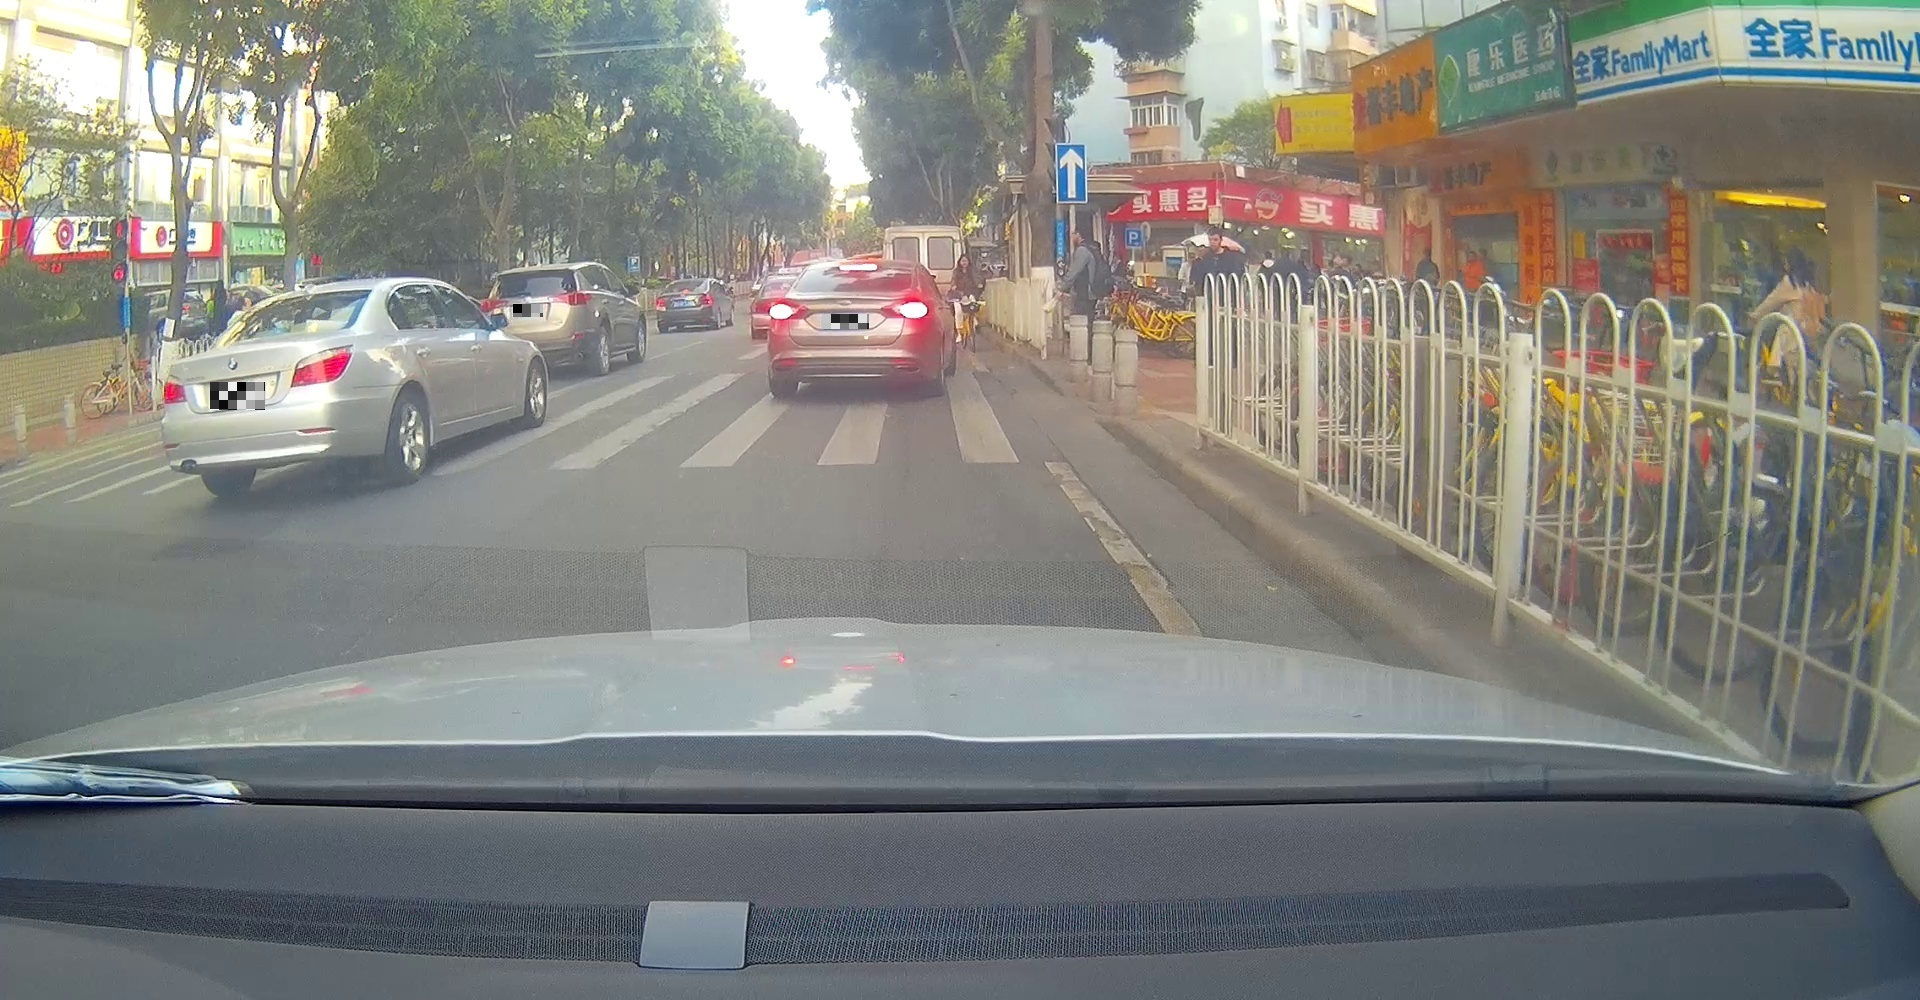L_light: (768, 299, 809, 320), (163, 374, 188, 405), (480, 299, 509, 313), (657, 299, 667, 311)
R_light: (290, 344, 356, 388), (880, 298, 930, 319), (549, 292, 587, 306), (700, 294, 714, 306)
T_light: (839, 263, 877, 272), (286, 294, 312, 303), (524, 272, 541, 274), (682, 291, 690, 292)
day-brake: (766, 259, 940, 398)
day-no: (161, 279, 386, 496), (480, 263, 596, 377), (657, 279, 716, 332)
plate_1: (210, 382, 265, 410)
plate_2: (513, 305, 543, 317)
plate_3: (822, 313, 869, 329)
